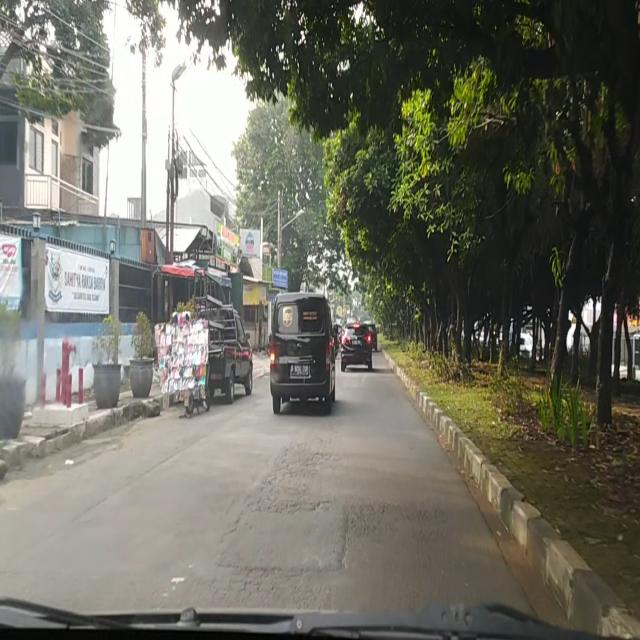Drain Hole: (245, 439, 339, 522)
